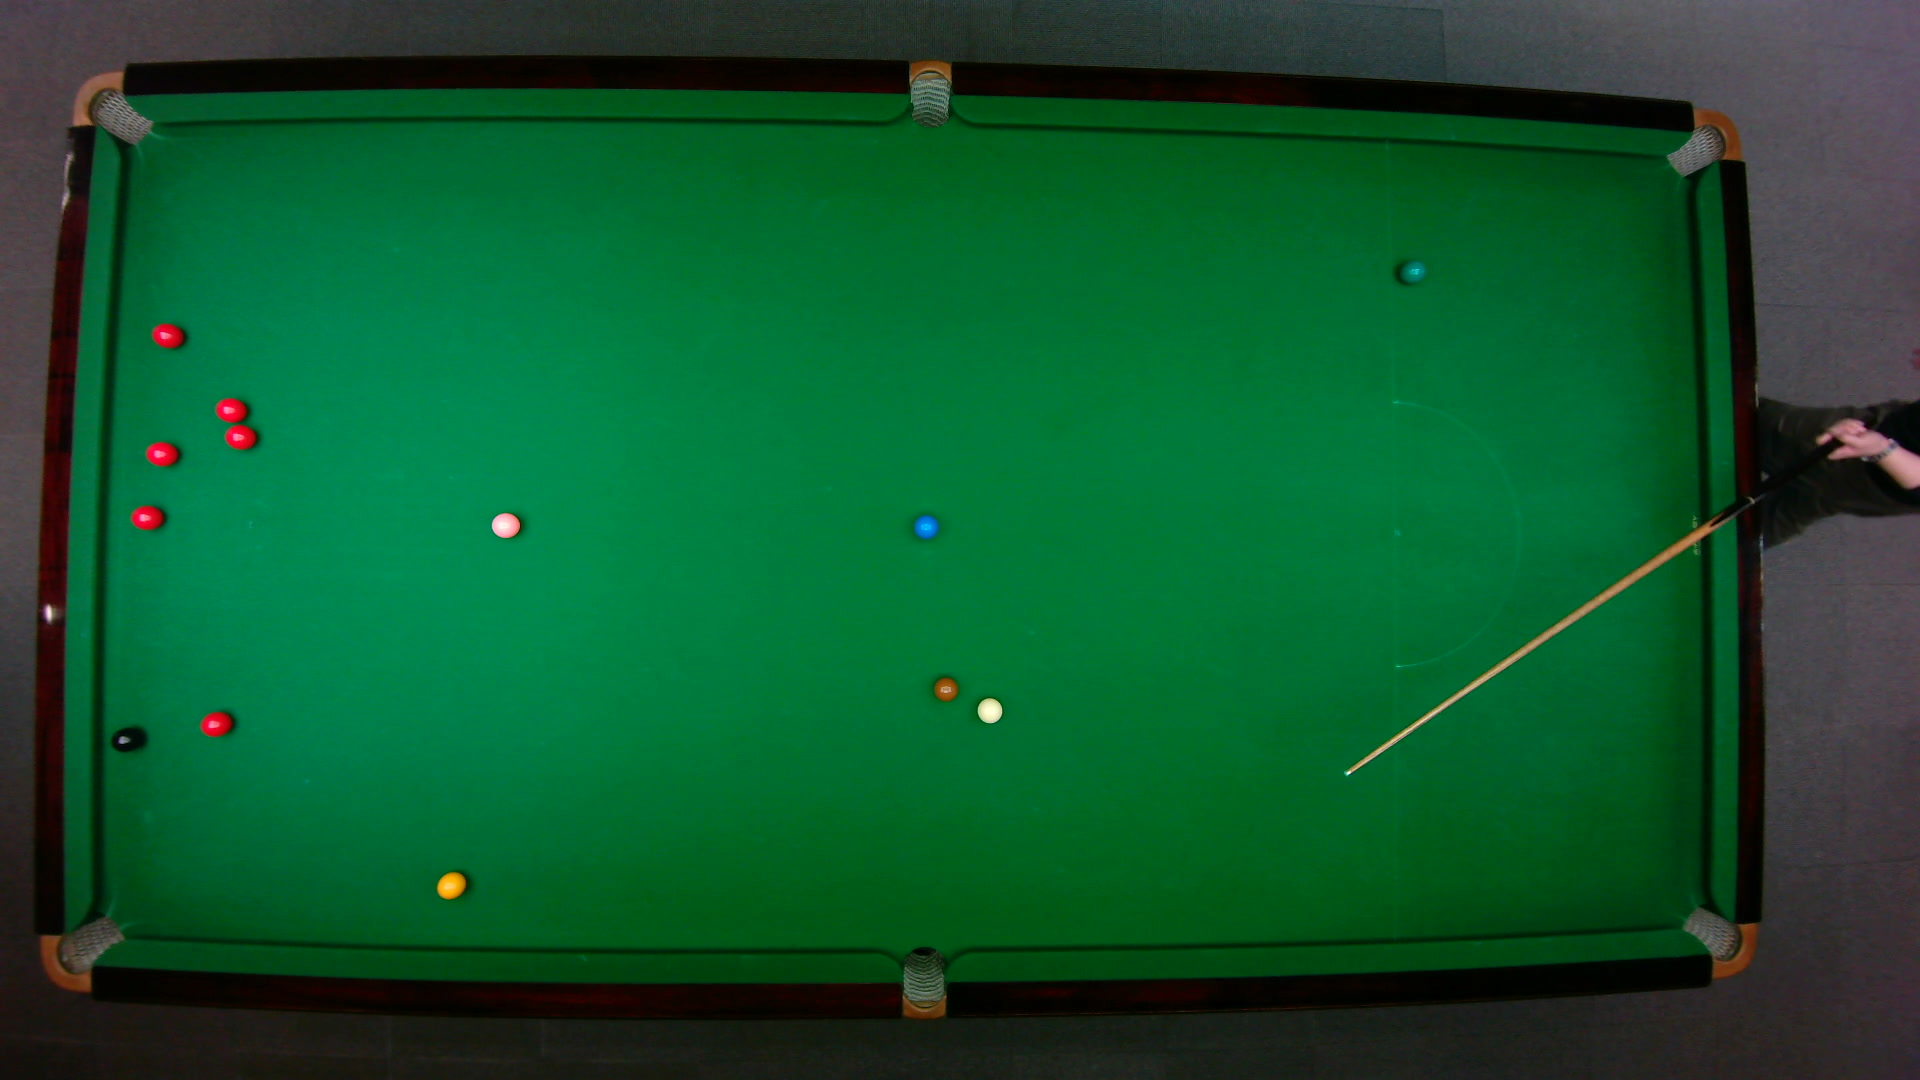bag: (38, 913, 127, 992), (69, 69, 157, 146), (1680, 905, 1758, 978), (1664, 107, 1741, 179), (901, 944, 947, 1021), (909, 57, 953, 131)
black: (108, 725, 142, 754)
blue: (913, 513, 940, 541)
brown: (932, 676, 960, 703)
cue: (1342, 409, 1880, 778)
green: (1396, 257, 1427, 286)
pink: (489, 512, 524, 541)
red: (149, 320, 187, 349), (222, 423, 260, 451), (129, 504, 167, 531), (198, 709, 233, 738), (214, 396, 249, 423), (145, 440, 181, 468)
white: (975, 696, 1005, 727)
yellow: (435, 869, 468, 902)
zone: (1390, 398, 1520, 670)
